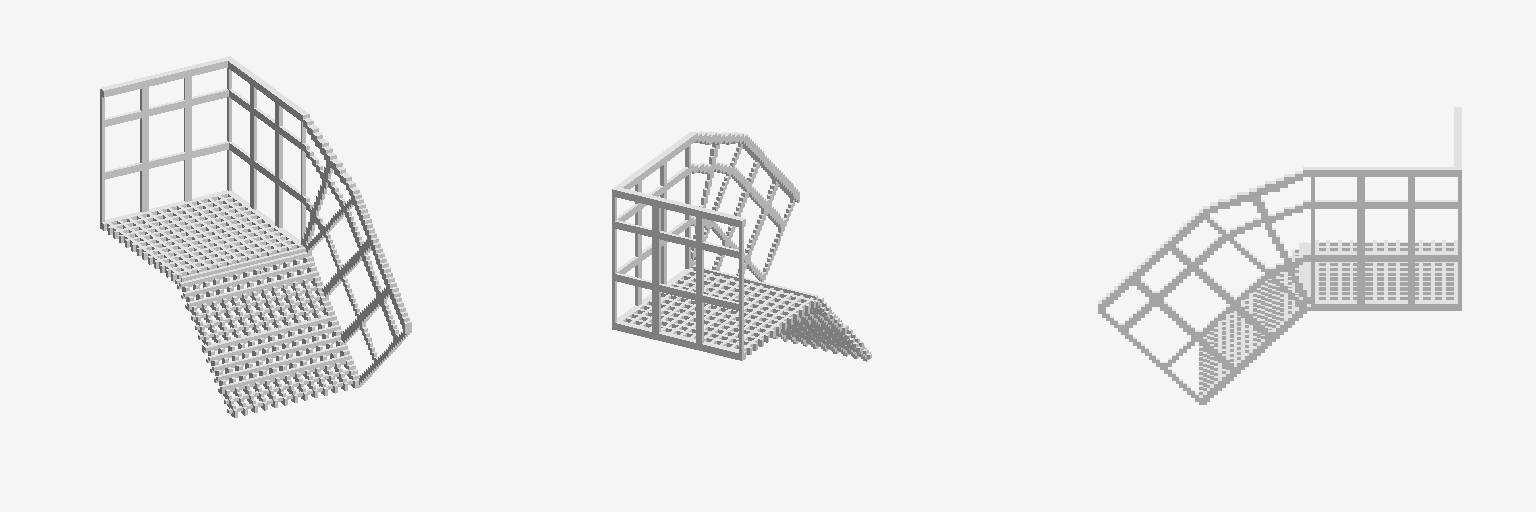
The model's file is emergency_exit_stair_down_flip.obj.
3 views of the same model, side by side, from view 1: azimuth 30°, elevation 25°; view 2: azimuth 150°, elevation 25°; view 3: azimuth 270°, elevation 25° (orthographic).
Visible parts, largest first — view 1: object 1; view 2: object 1; view 3: object 1.
Boxes of the visible parts, x1,y1,x2,y2 form: object 1: [100, 56, 411, 417]; object 1: [612, 131, 871, 361]; object 1: [1098, 107, 1461, 404].
Size of the model in its own units: 3.9 by 6.7 by 9.4.